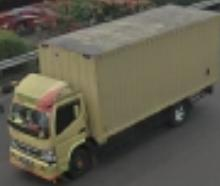truck: (1, 70, 98, 185)
